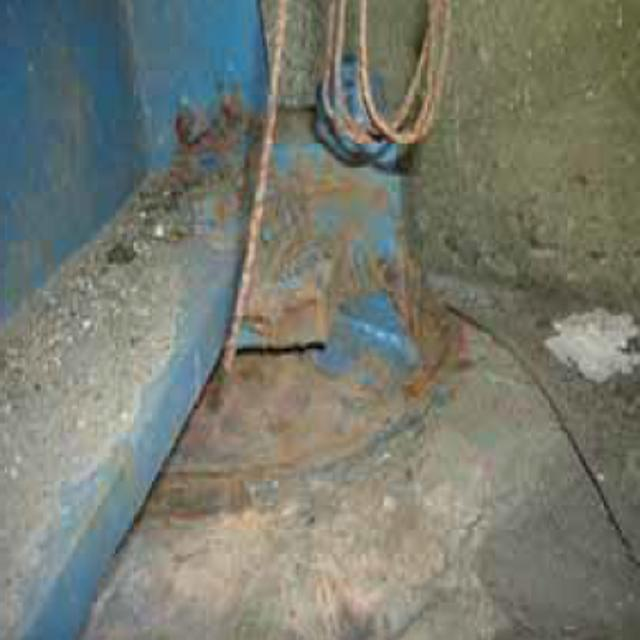corrosion: (152, 76, 468, 493)
